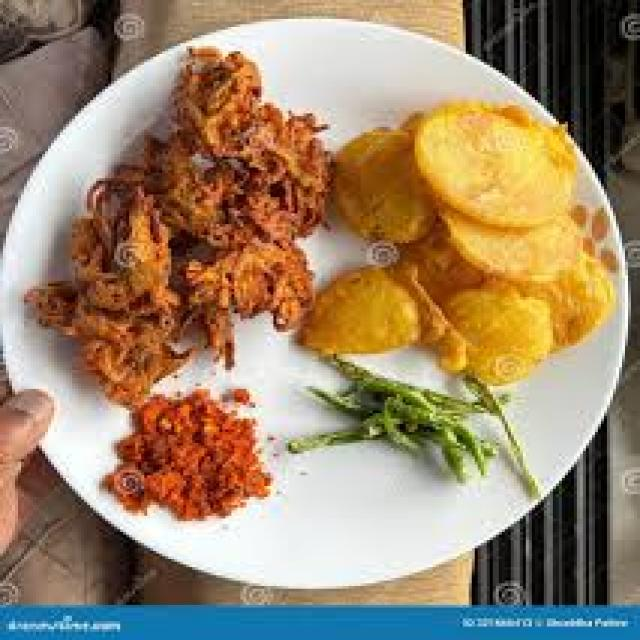BAJI: (18, 42, 334, 404), (291, 106, 608, 392)
